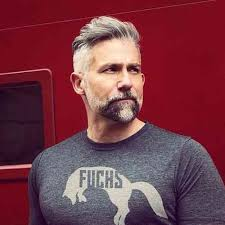white_male: (71, 32, 158, 127)
